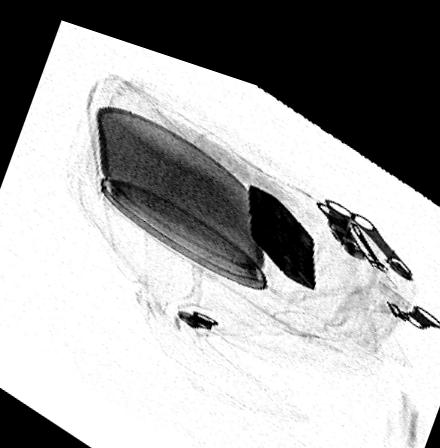Lighter: (245, 167, 317, 273)
